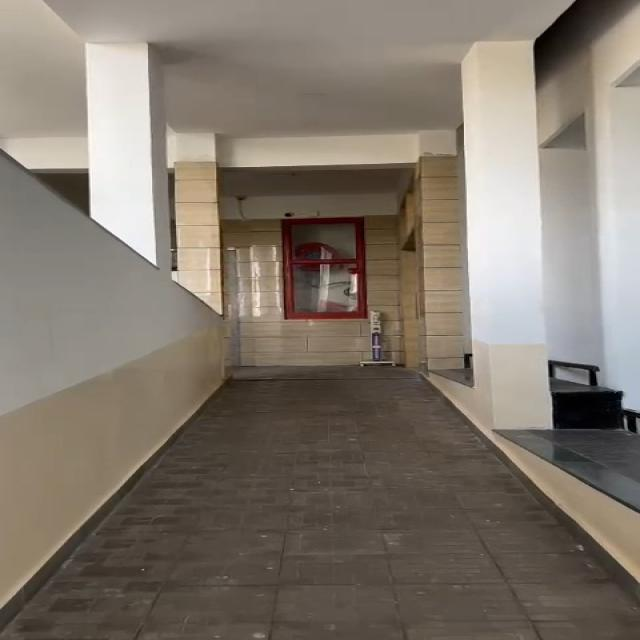door: (272, 192, 379, 344)
floor: (184, 421, 530, 640)
wall: (0, 59, 217, 462), (456, 16, 640, 423)
